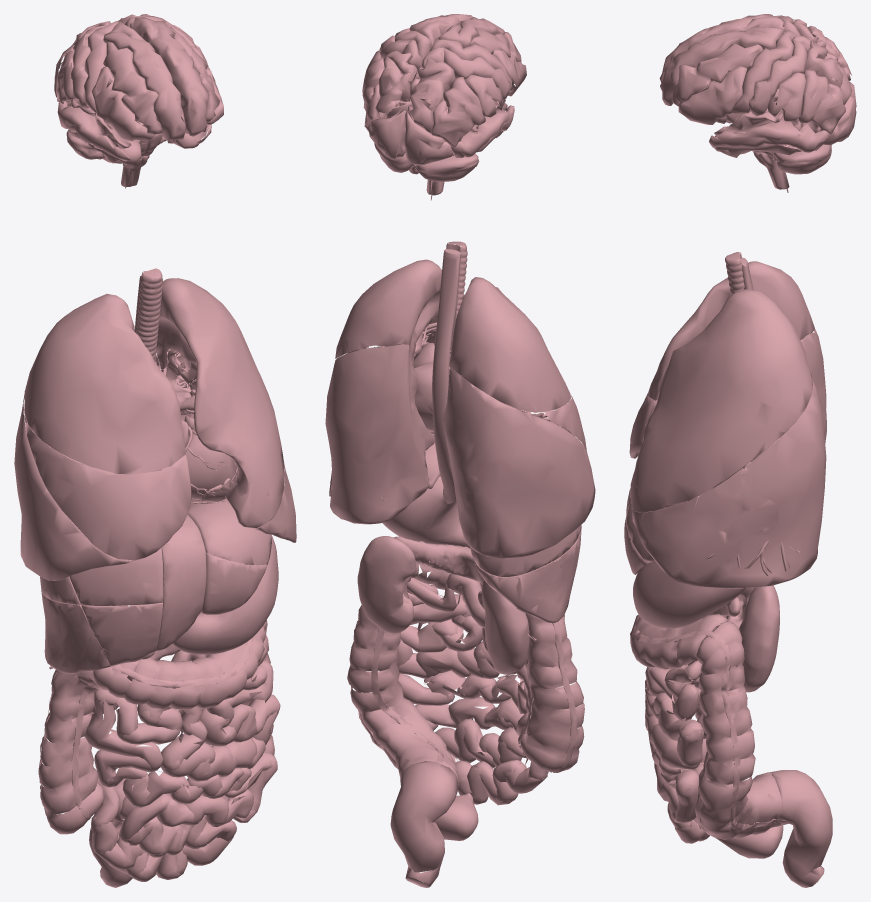
Rendered from organs.glb.
3 renders of one model, left to right at view 1: azimuth 30°, elevation 25°; view 2: azimuth 150°, elevation 25°; view 3: azimuth 270°, elevation 25°, orthographic. The views are drawn at different scales.
Visible parts, largest first — view 1: FMA7309, FMA7200, FMA7197, FMA50801, FMA7310, FMA7201, FMA7148, FMA7088, FMA7394; view 2: FMA7309, FMA7310, FMA7201, FMA50801, FMA7200, FMA7197, FMA7205, FMA7131, FMA7204, FMA7148, FMA7198, FMA15900 (+2 smaller); view 3: FMA7310, FMA50801, FMA7201, FMA7200, FMA7309, FMA7148, FMA7205, FMA15900, FMA7197, FMA7394.
Boxes of the visible parts, <box> form: FMA7309: <box>14,294,191,669</box>; FMA7200: <box>84,643,280,881</box>; FMA7197: <box>40,499,271,673</box>; FMA50801: <box>54,14,223,186</box>; FMA7310: <box>155,278,296,542</box>; FMA7201: <box>38,620,274,887</box>; FMA7148: <box>172,535,278,654</box>; FMA7088: <box>155,391,239,504</box>; FMA7394: <box>135,268,162,364</box>; FMA7309: <box>443,277,595,641</box>; FMA7310: <box>325,259,456,524</box>; FMA7201: <box>347,561,584,887</box>; FMA50801: <box>362,14,526,195</box>; FMA7200: <box>397,574,548,805</box>; FMA7197: <box>425,434,581,623</box>; FMA7205: <box>357,536,416,633</box>; FMA7131: <box>432,248,460,503</box>; FMA7204: <box>481,580,529,673</box>; FMA7148: <box>382,476,470,548</box>; FMA7198: <box>393,536,484,609</box>; FMA15900: <box>434,793,478,840</box>; FMA7310: <box>630,289,826,588</box>; FMA50801: <box>659,14,856,189</box>; FMA7201: <box>630,614,832,887</box>; FMA7200: <box>645,615,726,843</box>; FMA7309: <box>629,261,826,458</box>; FMA7148: <box>633,560,745,628</box>; FMA7205: <box>735,585,779,692</box>; FMA15900: <box>716,825,783,858</box>; FMA7197: <box>624,488,702,574</box>; FMA7394: <box>725,252,744,295</box>.
Size of the model in its own units: 0.531 by 1.83 by 0.4452.
